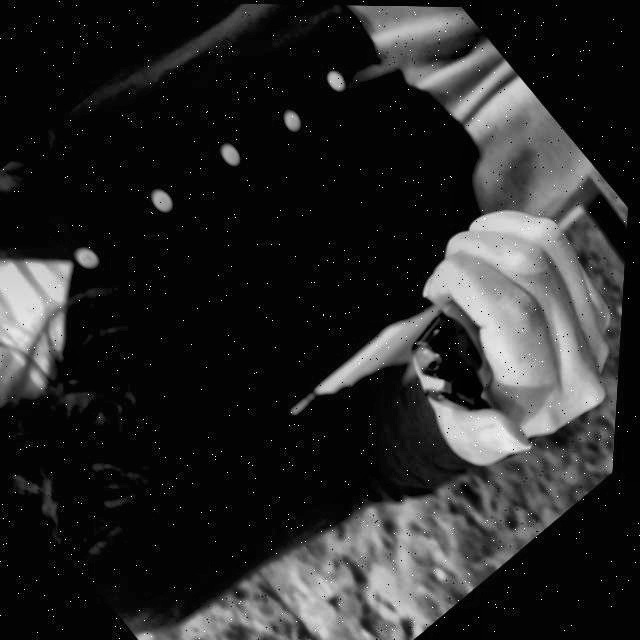Fire: (392, 338, 443, 385)
